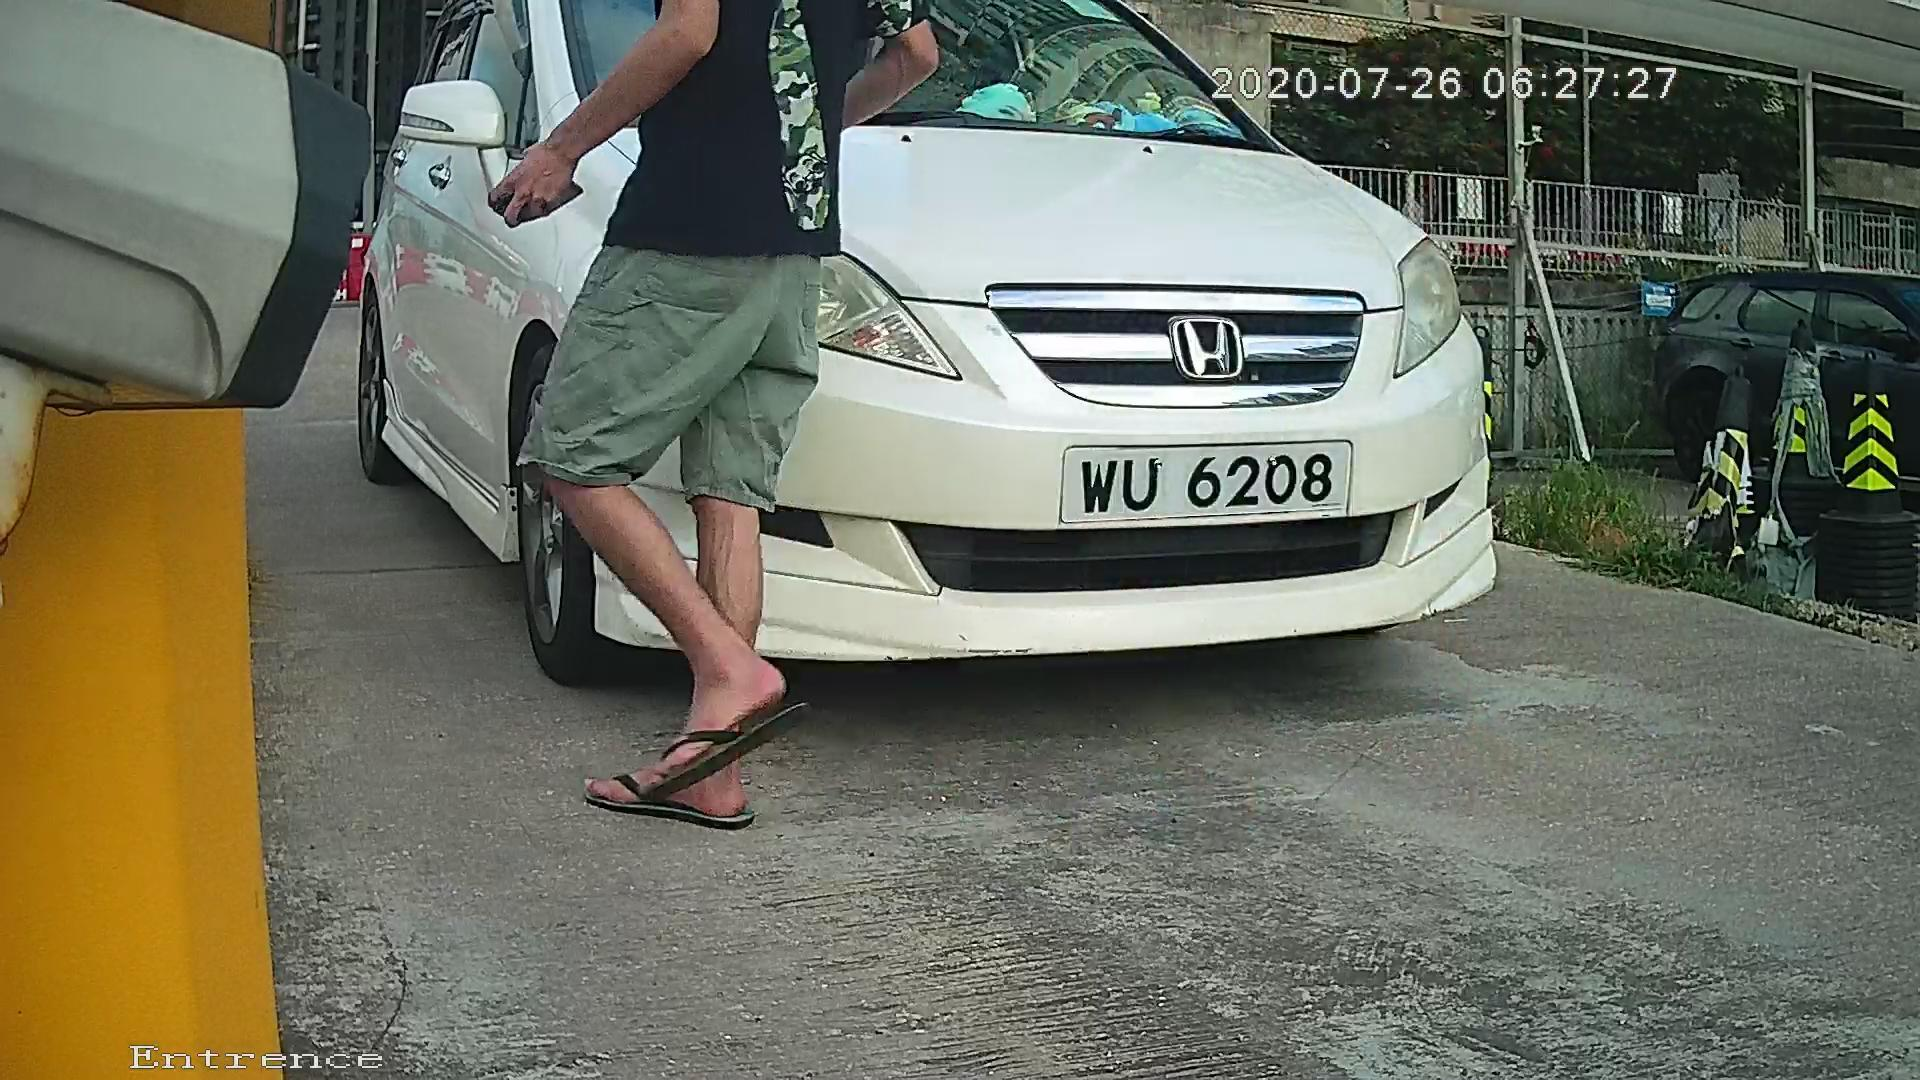privatecar: (318, 1, 1698, 724)
